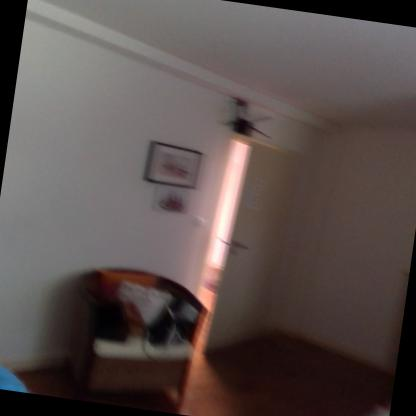semi: (184, 127, 308, 356)
